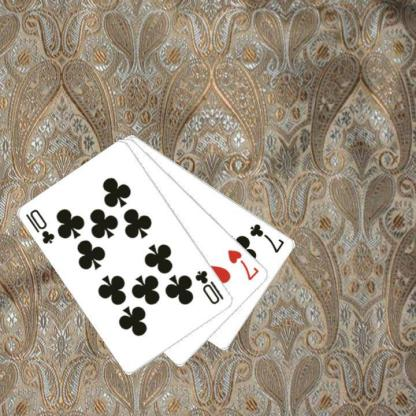10C: (23, 206, 57, 246), (192, 268, 226, 306)
7C: (247, 221, 286, 254)
7H: (226, 247, 260, 282)
